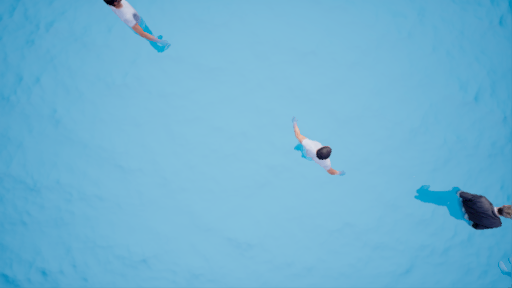person: (406, 184, 512, 232), (99, 1, 180, 58), (289, 113, 347, 181)
